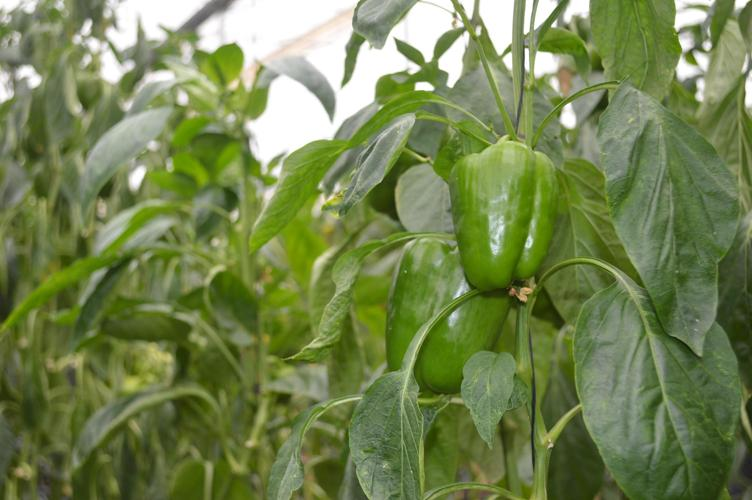BellPepper: (385, 235, 510, 391), (448, 139, 557, 285)
